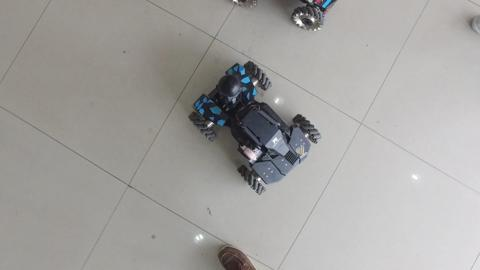chariot: (183, 57, 324, 197)
